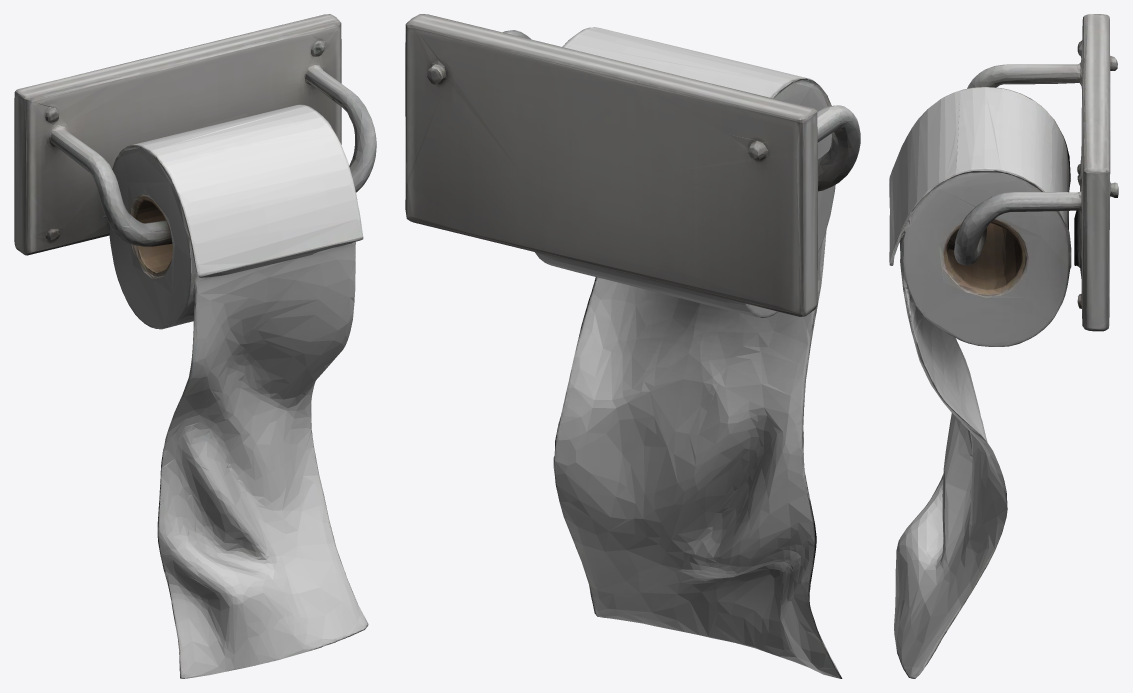
The model's file is toilet_paper_holder.glb.
3 views of the same model, side by side, from view 1: azimuth 30°, elevation 25°; view 2: azimuth 150°, elevation 25°; view 3: azimuth 270°, elevation 25° (orthographic). The views are drawn at different scales.
Visible parts, largest first — view 1: geometry_0; view 2: geometry_0; view 3: geometry_0.
Boxes of the visible parts, bbox=[...] form: geometry_0: bbox=[14, 14, 376, 678]; geometry_0: bbox=[405, 14, 860, 678]; geometry_0: bbox=[889, 14, 1118, 678].
Size of the model in its own units: 0.6194 by 0.9943 by 0.3807.
Materials: 1 (1 with a texture image).
